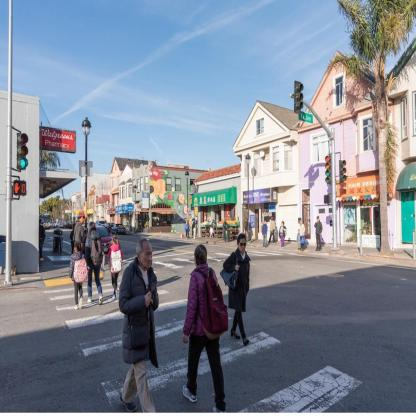Crosswalk: (73, 316, 364, 412)
Don-t Walk: (12, 180, 21, 195)
Traffic Signal: (17, 131, 27, 170)
